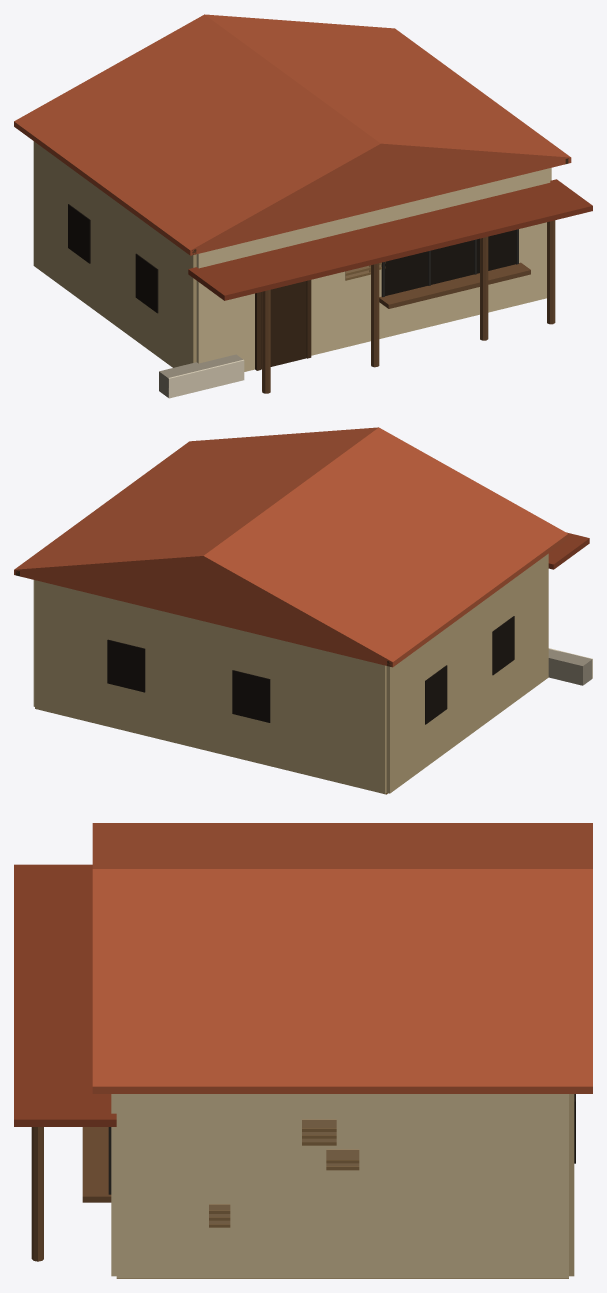
Rendered from barrio-abajo-casa-tienda.glb.
The picture shows the model from 3 angles, top to bottom: view 1: azimuth 30°, elevation 25°; view 2: azimuth 150°, elevation 25°; view 3: azimuth 270°, elevation 25°; orthographic projection. The views are drawn at different scales.
Visible parts, largest first — view 1: casa_tienda_Teja, casa_tienda_Bahareque, casa_tienda_BahaqueSombra, casa_tienda_TejaOscura, casa_tienda_Ventana, casa_tienda_Madera, casa_tienda_Puerta, casa_tienda_Encalado, casa_tienda_MaderaOscura, casa_tienda_Piedra; view 2: casa_tienda_Teja, casa_tienda_BahaqueSombra, casa_tienda_Ventana, casa_tienda_Piedra, casa_tienda_TejaOscura; view 3: casa_tienda_Teja, casa_tienda_Bahareque, casa_tienda_TejaOscura, casa_tienda_Madera, casa_tienda_BarroExpuesto, casa_tienda_BahaqueSombra, casa_tienda_CanaBrava.
Boxes of the visible parts, bbox=[...] form: casa_tienda_Teja: bbox=[14, 14, 571, 255]; casa_tienda_Bahareque: bbox=[196, 168, 551, 371]; casa_tienda_BahaqueSombra: bbox=[33, 141, 196, 367]; casa_tienda_TejaOscura: bbox=[188, 179, 592, 300]; casa_tienda_Ventana: bbox=[68, 204, 515, 313]; casa_tienda_Madera: bbox=[262, 220, 555, 393]; casa_tienda_Puerta: bbox=[261, 281, 306, 369]; casa_tienda_Encalado: bbox=[168, 359, 244, 398]; casa_tienda_MaderaOscura: bbox=[192, 158, 568, 370]; casa_tienda_Piedra: bbox=[159, 354, 242, 397]; casa_tienda_Teja: bbox=[14, 427, 568, 667]; casa_tienda_BahaqueSombra: bbox=[35, 553, 548, 794]; casa_tienda_Ventana: bbox=[107, 616, 514, 724]; casa_tienda_Piedra: bbox=[548, 649, 591, 685]; casa_tienda_TejaOscura: bbox=[548, 532, 589, 569]; casa_tienda_Teja: bbox=[92, 823, 592, 1093]; casa_tienda_Bahareque: bbox=[111, 1094, 568, 1278]; casa_tienda_TejaOscura: bbox=[14, 864, 116, 1126]; casa_tienda_Madera: bbox=[31, 1127, 111, 1261]; casa_tienda_BarroExpuesto: bbox=[209, 1119, 359, 1224]; casa_tienda_BahaqueSombra: bbox=[569, 1094, 574, 1276]; casa_tienda_CanaBrava: bbox=[209, 1128, 359, 1227].
Bounding box in the file's own units: 9.65 × 4.64 × 8.45.
